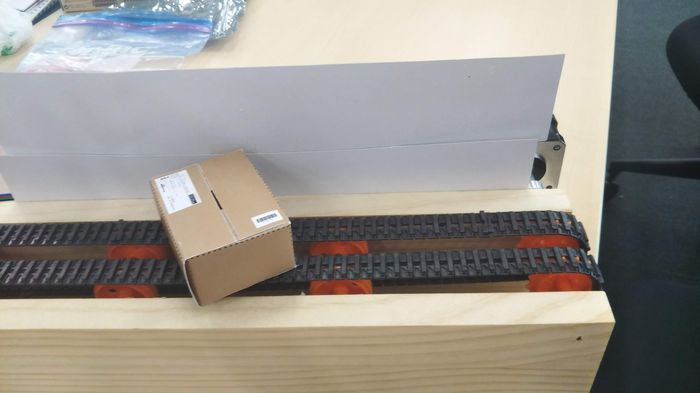box1: (149, 146, 295, 306)
